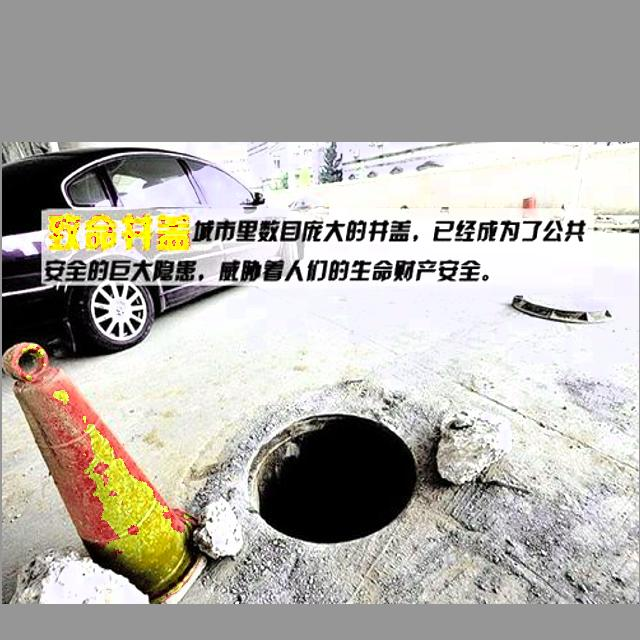lose: (240, 402, 427, 554)
